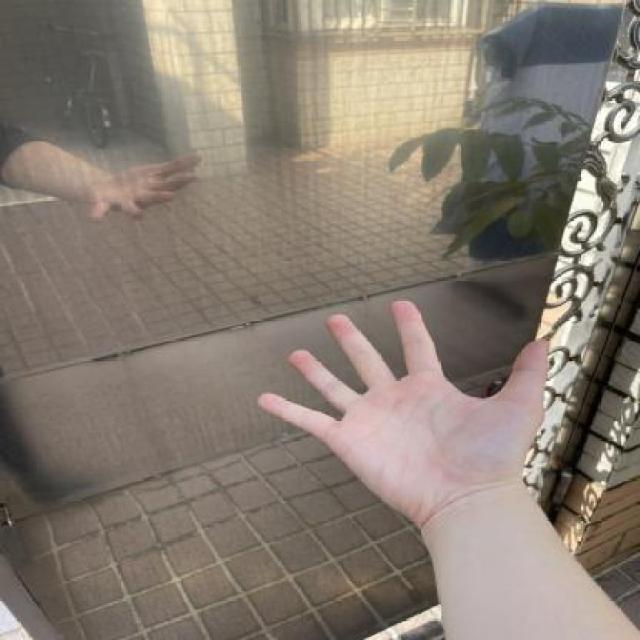hand: (252, 292, 556, 544)
